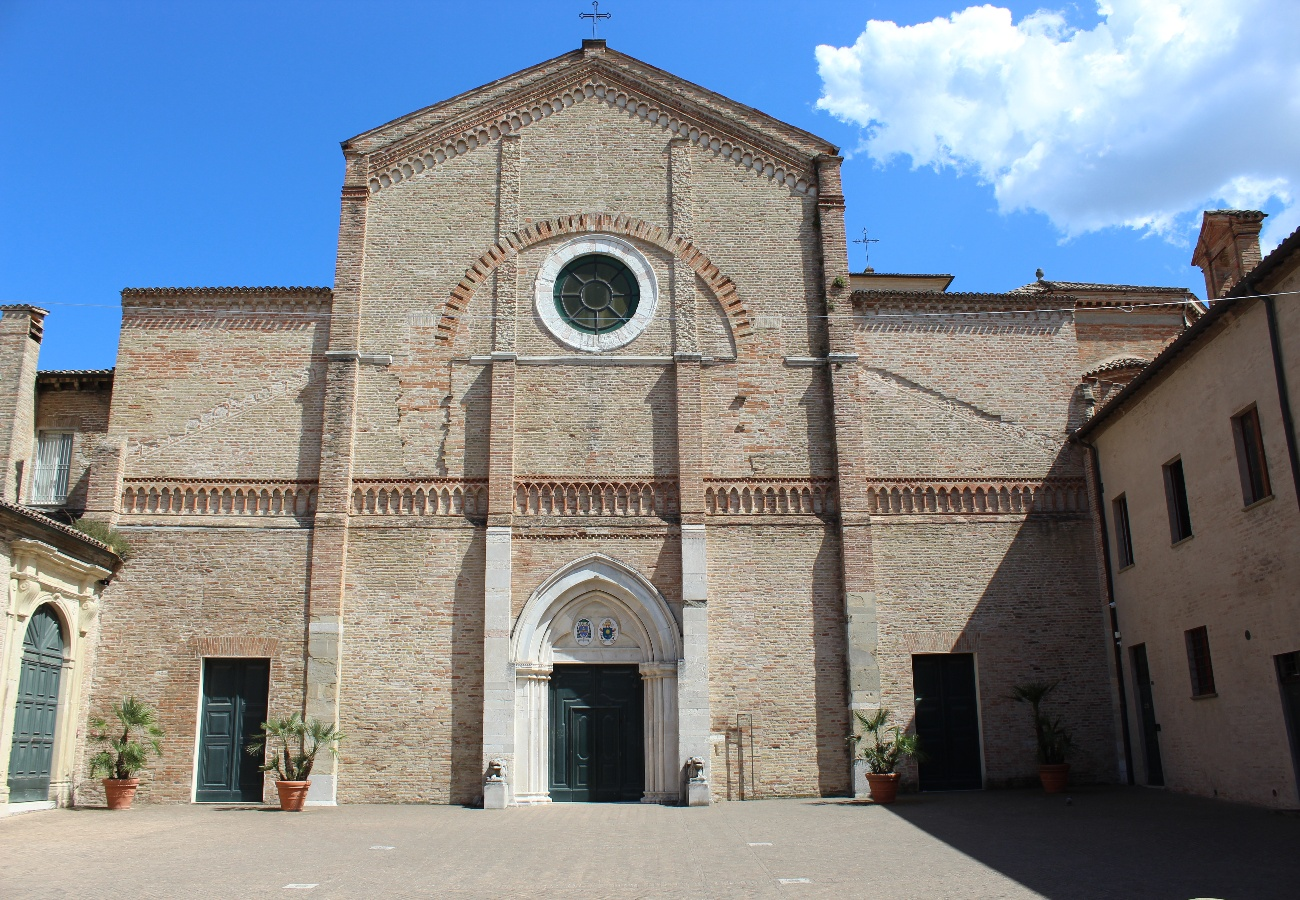Cattedrale Santa Maria Assunta: (94, 43, 1083, 821)
